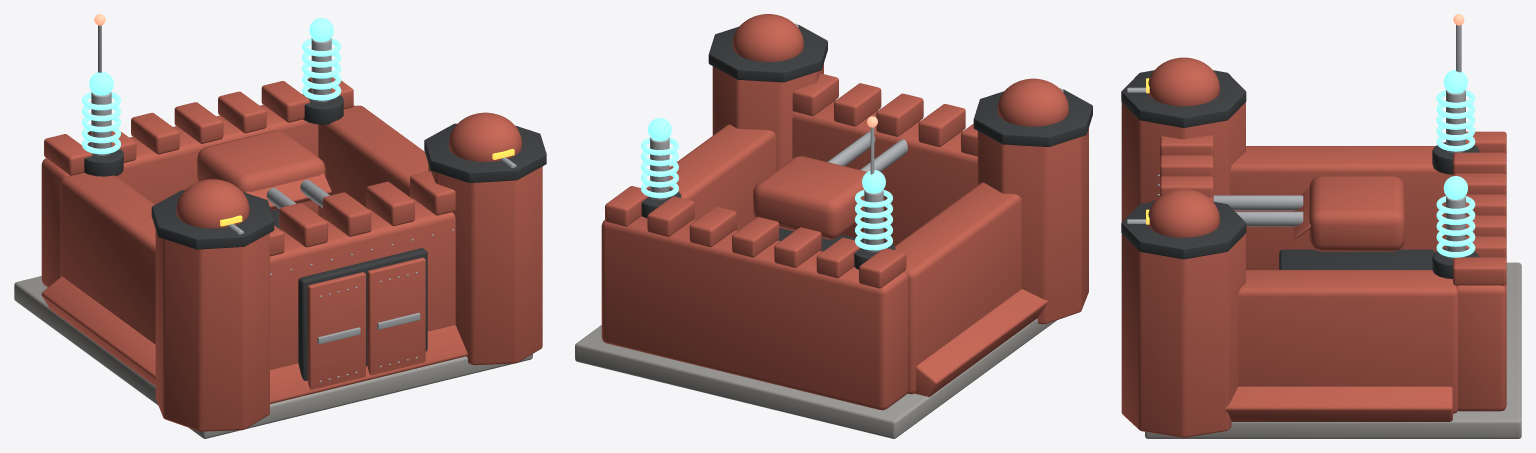
The model's file is building_fort.glb.
3 views of the same model, side by side, from view 1: azimuth 30°, elevation 25°; view 2: azimuth 150°, elevation 25°; view 3: azimuth 270°, elevation 25° (orthographic). The views are drawn at different scales.
Parts seen in each view (by area): view 1: Cylinder.003, Cylinder, Cube.005, Cube.001, Cube.002, Cube, Cube.003, Cube.023, Cube.025, Cube.030, Cube.006, Cylinder.004 (+19 smaller); view 2: Cube.002, Cube.005, Cylinder.003, Cube, Cube.001, Cube.003, Cube.030, Cylinder, Cube.006, Cylinder.001, Cylinder.004, Sphere.035 (+16 smaller); view 3: Cube.003, Cylinder, Cube.005, Cube, Cube.004, Cube.030, Cylinder.003, Cube.002, Cylinder.001, Cylinder.004, Cube.029, Sphere.035 (+20 smaller).
Boxes of the visible parts, box(x1,y1,x2,y2) form: Cylinder.003: box(155, 230, 269, 431); Cylinder: box(428, 164, 542, 365); Cube.005: box(60, 172, 155, 344); Cube.001: box(270, 199, 455, 369); Cube.002: box(41, 105, 354, 287); Cube: box(14, 276, 532, 438); Cube.003: box(318, 105, 428, 219); Cube.023: box(367, 257, 425, 375); Cube.025: box(307, 272, 365, 389); Cube.030: box(197, 130, 325, 210); Cube.006: box(41, 276, 155, 386); Cylinder.004: box(151, 190, 274, 249); Cube.002: box(601, 216, 907, 410); Cube.005: box(895, 182, 1021, 394); Cylinder.003: box(977, 128, 1088, 324); Cube: box(575, 318, 1056, 438); Cube.001: box(792, 100, 977, 245); Cube.003: box(646, 124, 775, 230); Cube.030: box(753, 156, 866, 239); Cylinder: box(712, 63, 823, 170); Cube.006: box(914, 289, 1048, 396); Cylinder.001: box(708, 24, 827, 82); Cylinder.004: box(973, 89, 1092, 146); Sphere.035: box(997, 78, 1068, 126); Cube.003: box(1238, 270, 1458, 413); Cylinder: box(1121, 233, 1245, 437); Cube.005: box(1230, 146, 1452, 269); Cube: box(1145, 262, 1521, 438); Cube.004: box(1224, 386, 1452, 421); Cube.030: box(1309, 176, 1404, 251); Cylinder.003: box(1121, 102, 1245, 222); Cube.002: box(1456, 284, 1506, 411); Cylinder.001: box(1121, 201, 1246, 259); Cylinder.004: box(1121, 70, 1246, 127); Cube.029: box(1279, 249, 1434, 269); Sphere.035: box(1148, 57, 1219, 106).
Bounding box in the file's own units: 7.29 × 5.4 × 6.69.
